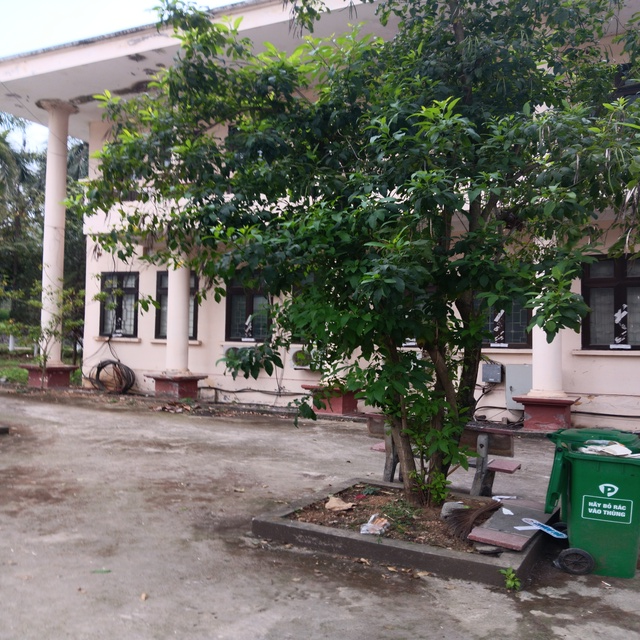thungrac: (562, 431, 640, 578)
